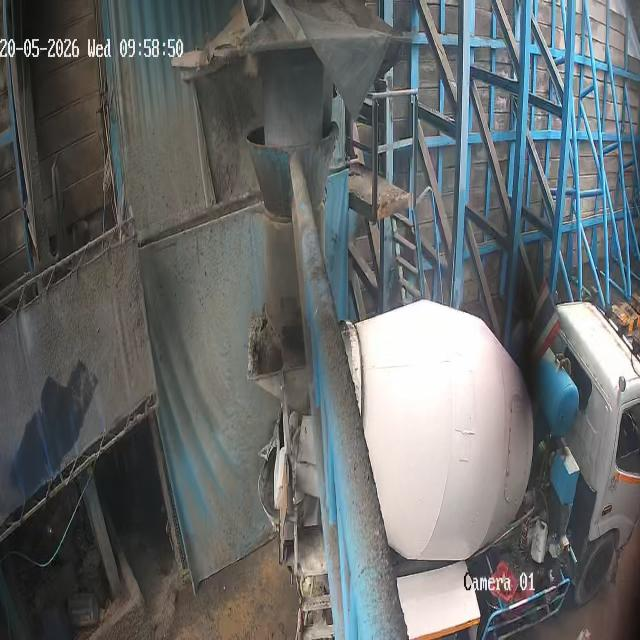cement_mixer_truck: (247, 308, 640, 639)
swing_chute: (246, 120, 337, 333)
